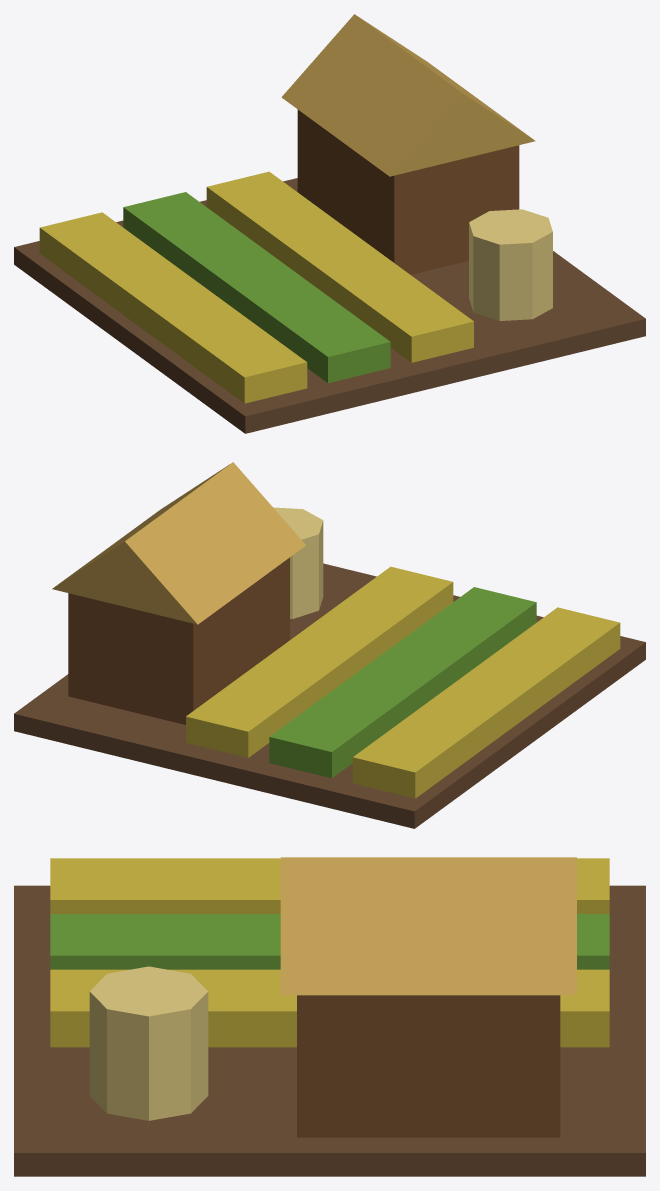
Rendered from farm.glb.
3 renders of one model, top to bottom at view 1: azimuth 30°, elevation 25°; view 2: azimuth 150°, elevation 25°; view 3: azimuth 270°, elevation 25°, orthographic. The views are drawn at different scales.
Parts seen in each view (by area): view 1: farm; view 2: farm; view 3: farm.
Part boxes in pixels (left/top/right/bottom): farm: left=14, top=14, right=645, bottom=433; farm: left=14, top=462, right=645, bottom=828; farm: left=14, top=857, right=645, bottom=1176.
Size of the model in its own units: 1.92 by 0.88 by 1.92.
